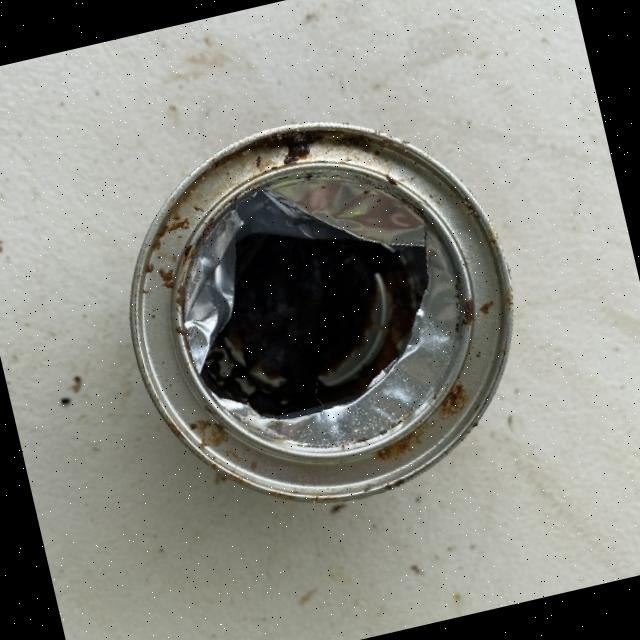metal: (90, 81, 552, 540)
